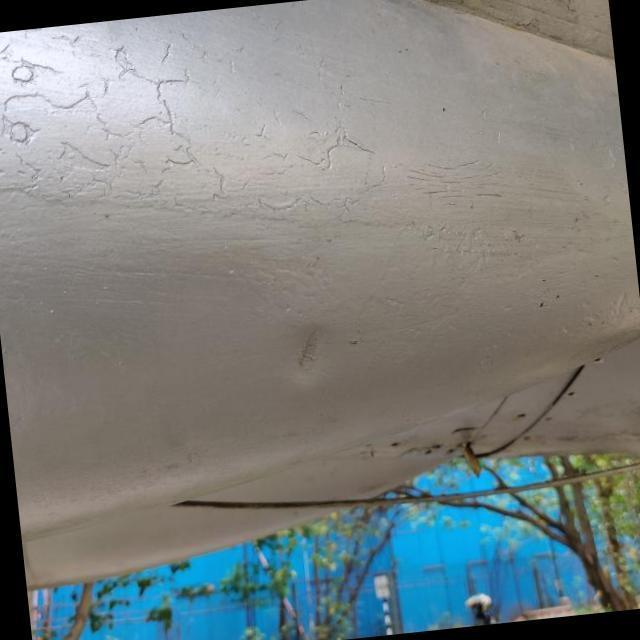Dent: (264, 304, 352, 392)
